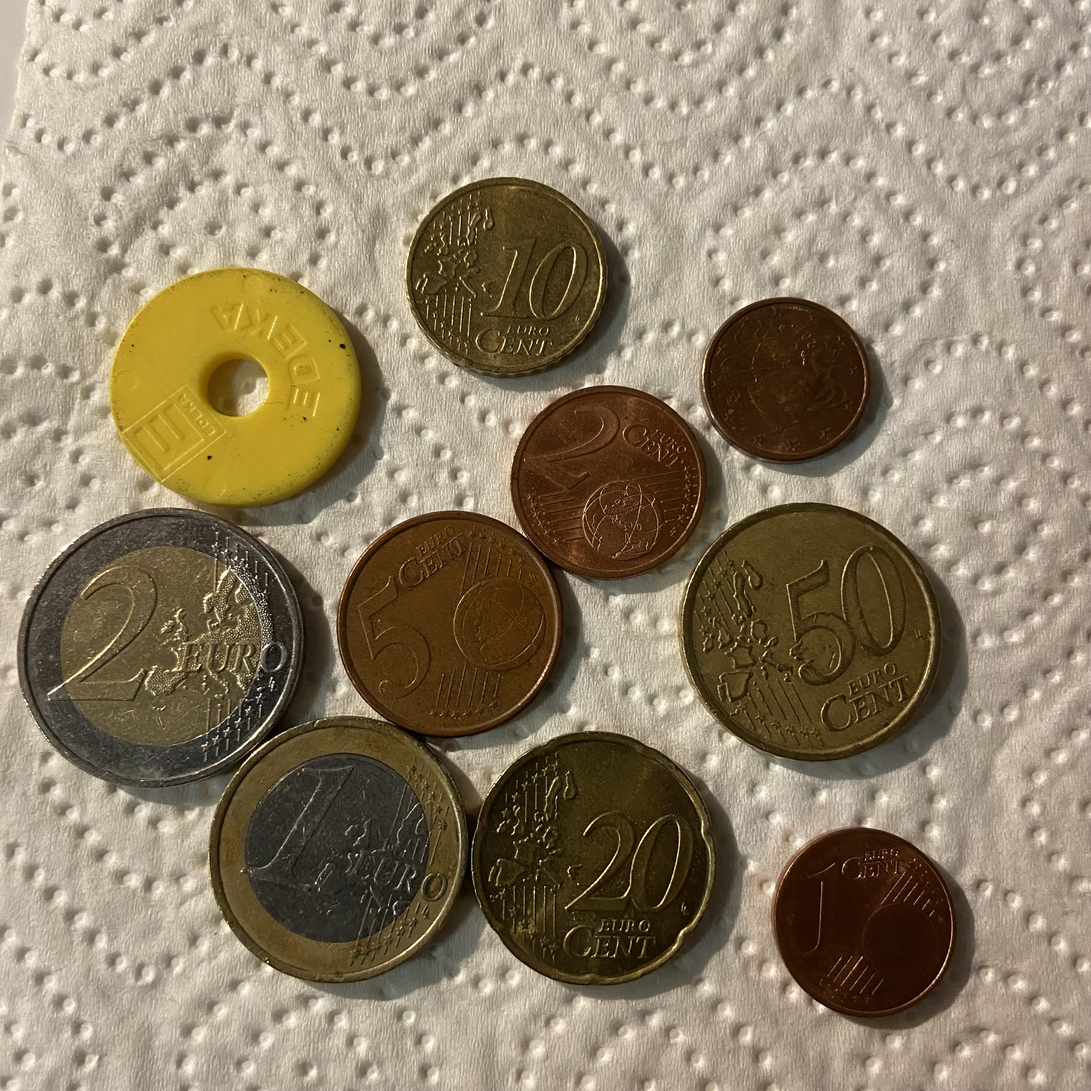1 cent: (772, 828, 956, 1017), (695, 288, 886, 461)
1 euro: (210, 717, 468, 982)
10 cent: (400, 173, 609, 382)
2 cent: (511, 386, 706, 579)
2 euro: (12, 507, 309, 788)
20 cent: (471, 732, 716, 985)
5 cent: (337, 511, 562, 737)
50 cent: (683, 496, 953, 770), (471, 732, 716, 985)
